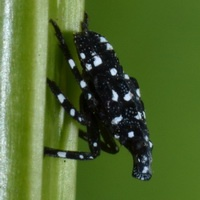insect: (44, 13, 151, 179)
